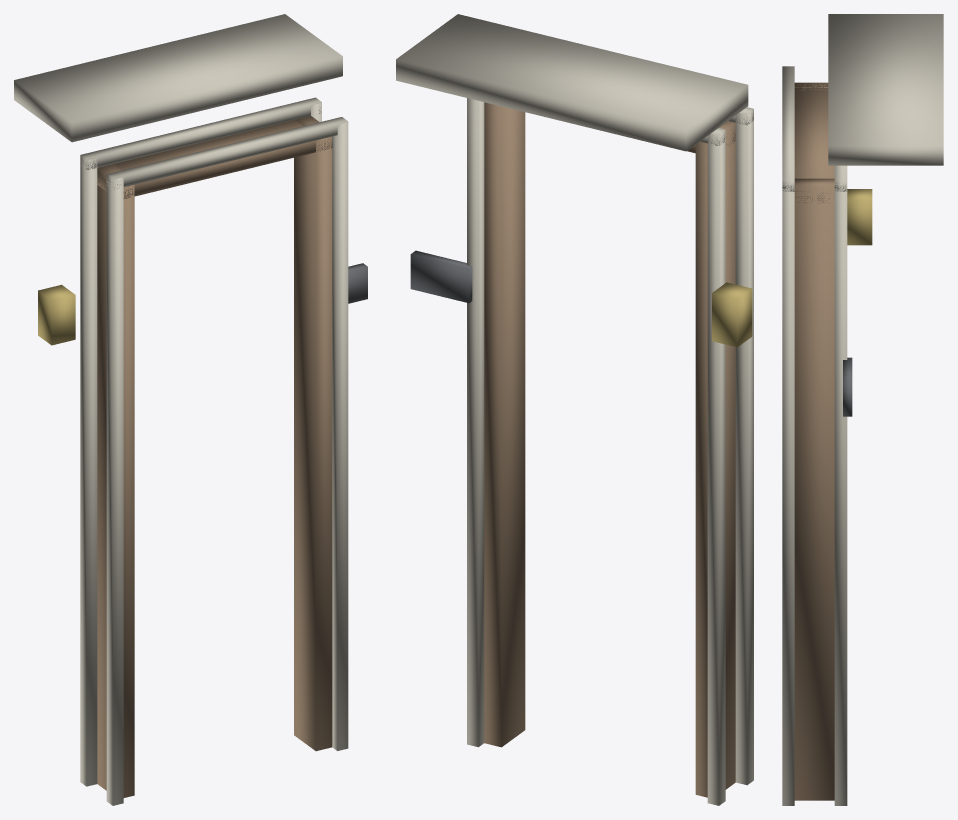
The model's file is doorway_motel_w76_h240_d16.glb.
3 views of the same model, side by side, from view 1: azimuth 30°, elevation 25°; view 2: azimuth 150°, elevation 25°; view 3: azimuth 270°, elevation 25° (orthographic). The views are drawn at different scales.
Parts seen in each view (by area): view 1: world; view 2: world; view 3: world.
Part boxes in pixels (box(x1,y1,x2,y2)): world: box(14, 14, 367, 805); world: box(396, 14, 753, 805); world: box(782, 14, 943, 805).
Bounding box in the file's own units: 1.32 × 2.69 × 0.5882.
